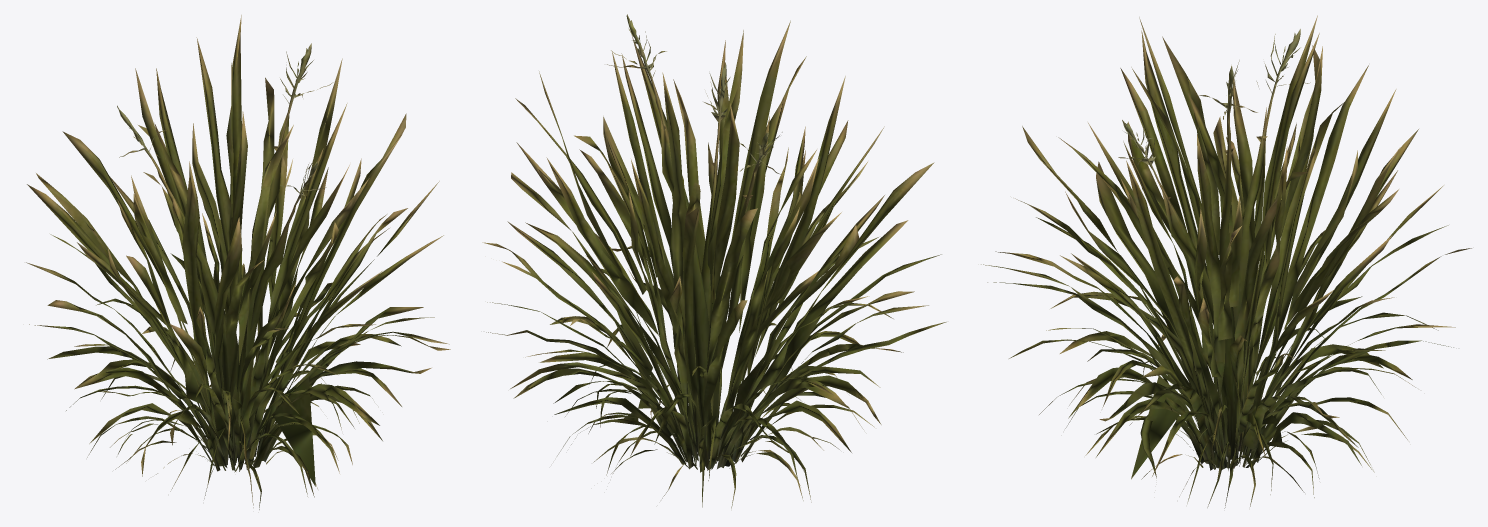
Rendered from javaporcos_mint_capim.glb.
3 renders of one model, left to right at view 1: azimuth 30°, elevation 25°; view 2: azimuth 150°, elevation 25°; view 3: azimuth 270°, elevation 25°, orthographic. The views are drawn at different scales.
Visible parts, largest first — view 1: Touceira de capim braquiária; view 2: Touceira de capim braquiária; view 3: Touceira de capim braquiária.
Boxes of the visible parts, x1,y1,x2,y2 form: Touceira de capim braquiária: [26, 15, 450, 509]; Touceira de capim braquiária: [482, 14, 946, 508]; Touceira de capim braquiária: [981, 15, 1471, 508].
Bounding box in the file's own units: 1.17 × 1.2 × 1.2.
1 material, 1 textured.
